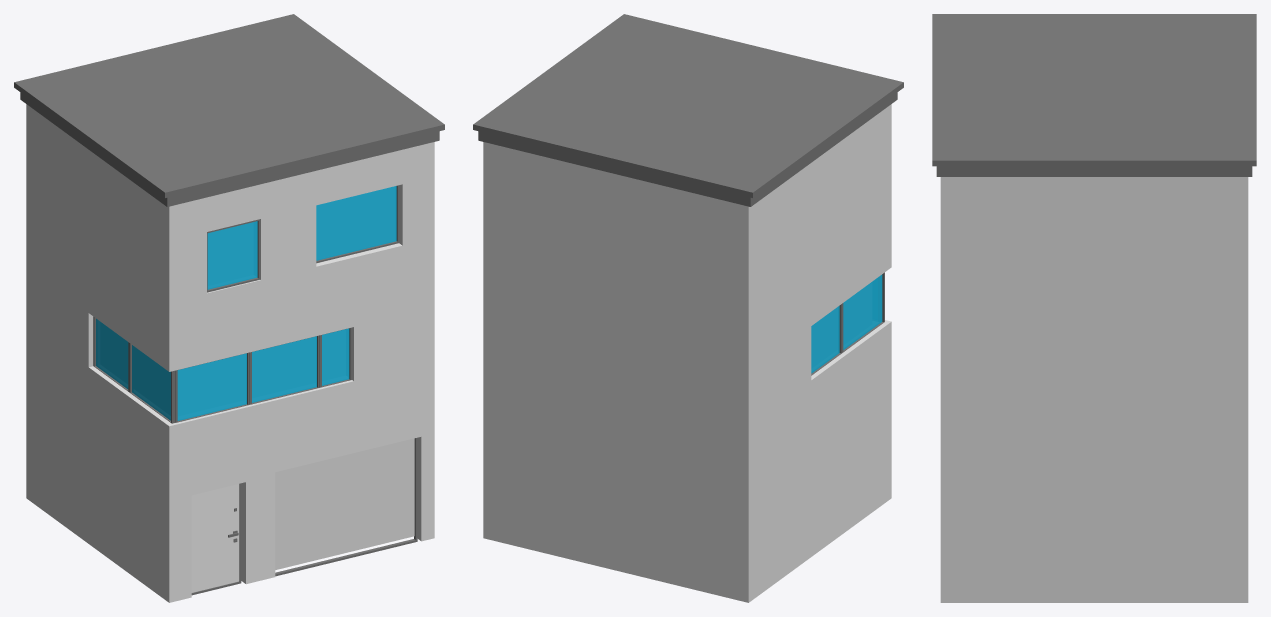
File: villa-house.glb
3 views of the same model, side by side, from view 1: azimuth 30°, elevation 25°; view 2: azimuth 150°, elevation 25°; view 3: azimuth 270°, elevation 25° (orthographic). The views are drawn at different scales.
Visible parts, largest first — view 1: Body, Roof, GarageDoor, Window1_1, Door, Window1_4, Window1_3, Window1_2, Window1_6, Window1_5, Window1, Window1_8; view 2: Body, Roof, Window1_6, Window1_5; view 3: Body, Roof.
Part boxes in pixels (box(x1,y1,x2,y2)): Body: box(26, 104, 434, 602); Roof: box(14, 14, 444, 206); GarageDoor: box(275, 438, 414, 569); Window1_1: box(316, 185, 399, 263); Door: box(191, 484, 239, 592); Window1_4: box(175, 352, 249, 422); Window1_3: box(249, 335, 319, 404); Window1_2: box(207, 219, 260, 292); Window1_6: box(129, 343, 175, 423); Window1_5: box(93, 316, 129, 391); Window1: box(319, 327, 351, 387); Window1_8: box(275, 438, 417, 576); Body: box(483, 104, 891, 602); Roof: box(473, 14, 903, 206); Window1_6: box(842, 272, 884, 352); Window1_5: box(811, 304, 842, 375); Body: box(940, 177, 1248, 602); Roof: box(932, 14, 1256, 176).
Bounding box in the file's own units: 6.7 × 9.57 × 6.26.
